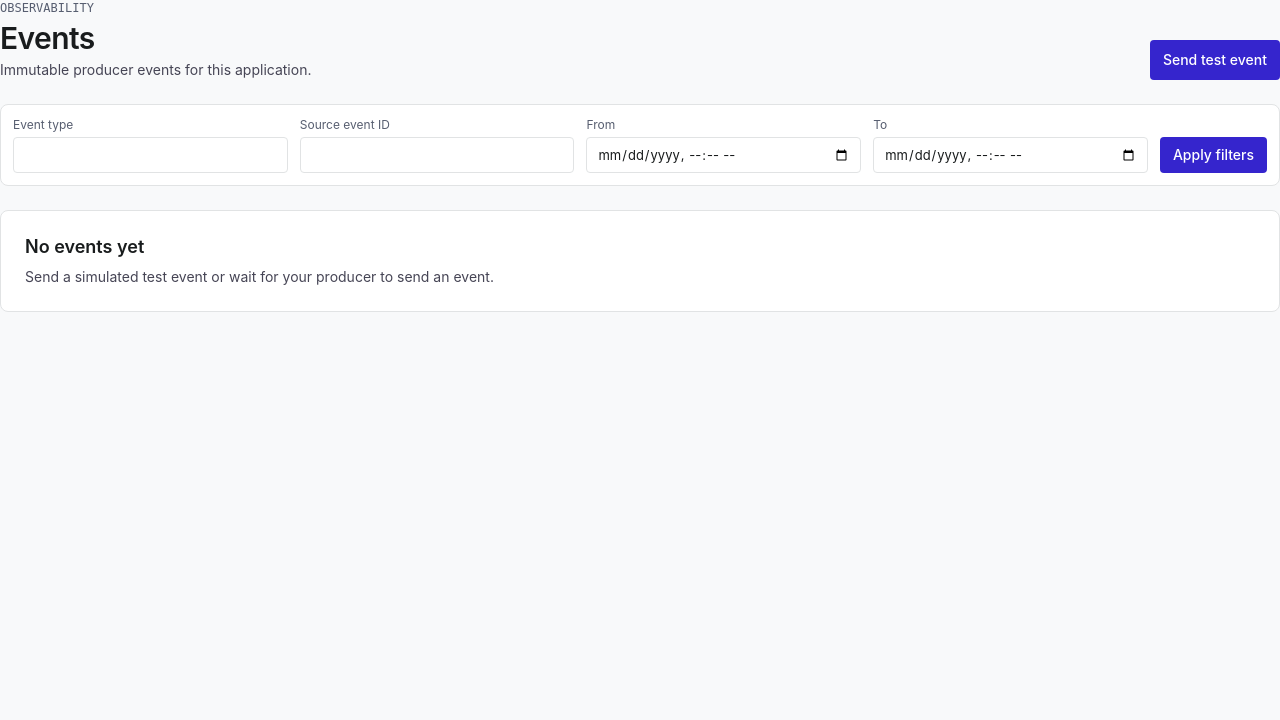
Scenario: rejects non-object JSON before submitting a simulated test event
Click the button "Send test event": {"x": 1215, "y": 60} [1150, 40, 1279, 80]
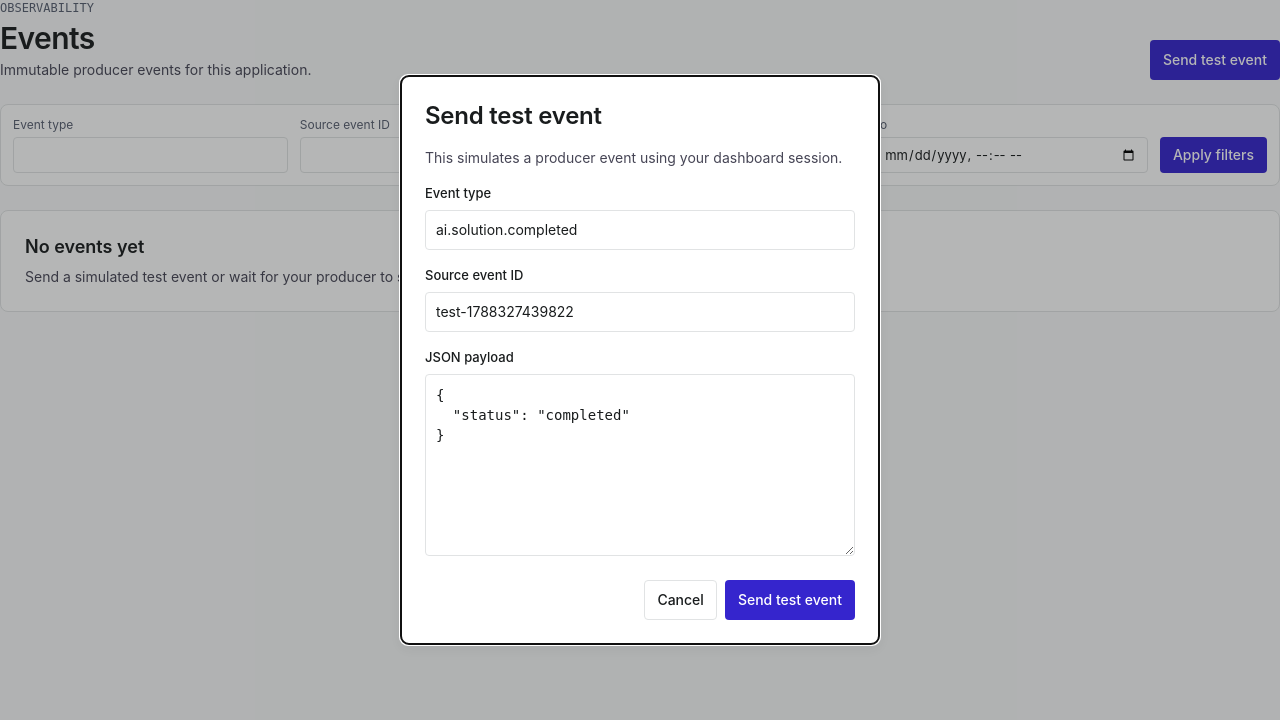
Replace the text in the text box labelled "JSON payload" with "[]": {"x": 640, "y": 465} [425, 374, 855, 556]
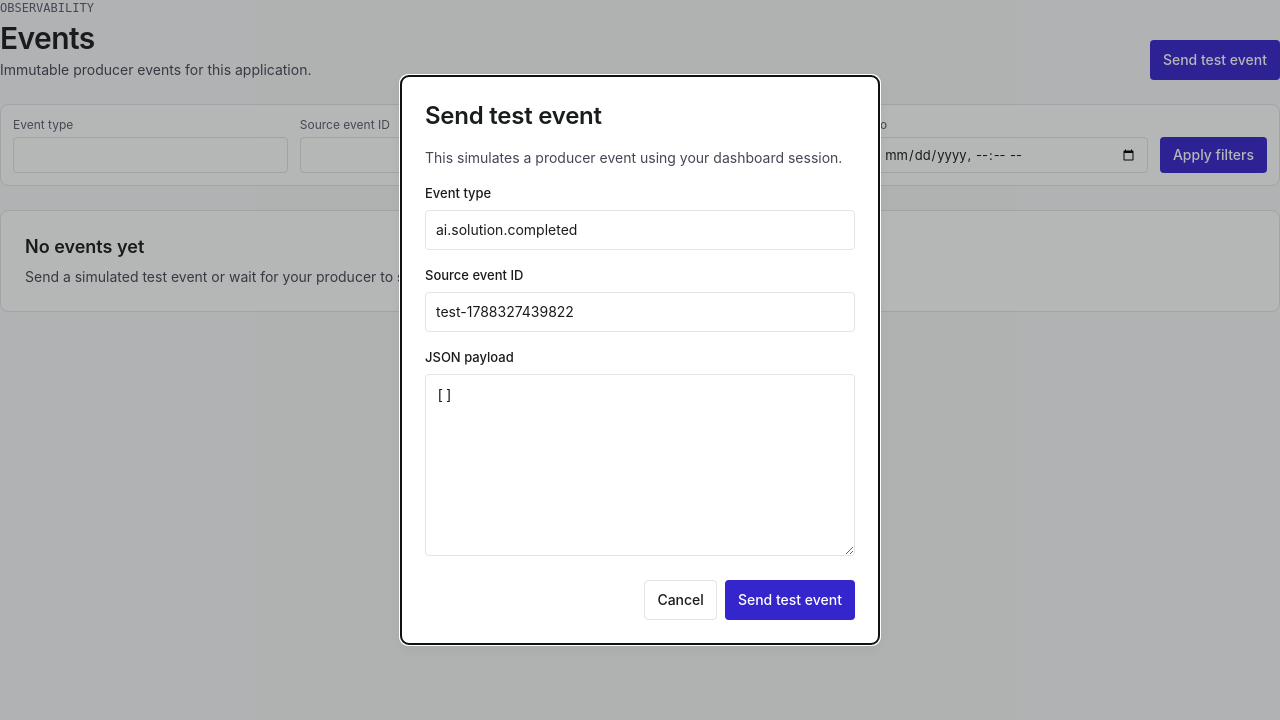
Click the button "Send test event": {"x": 790, "y": 600} [725, 580, 855, 620]
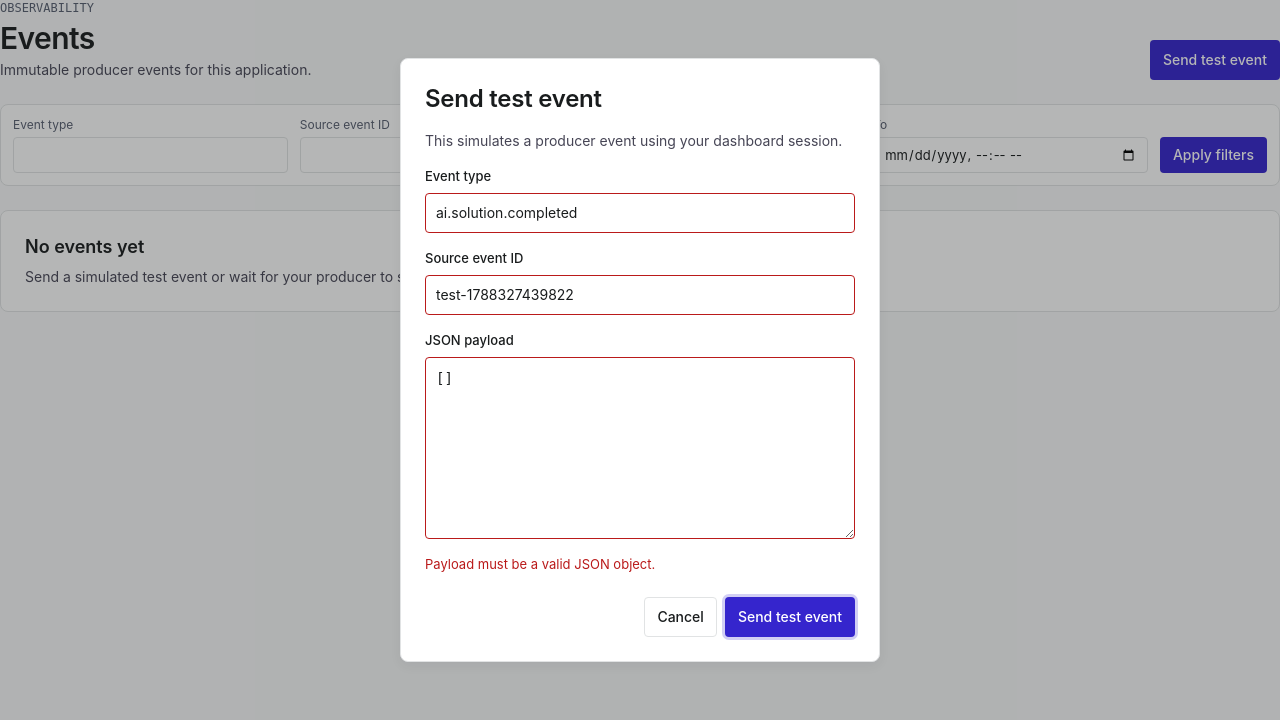
Check: the message reads "Payload must be a valid JSON object.", box [425, 556, 655, 572]
